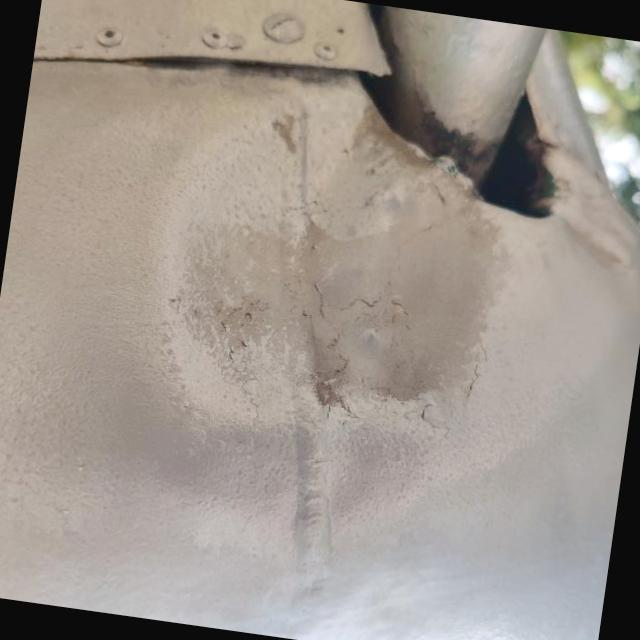dent: (84, 39, 563, 512), (539, 191, 640, 298)
